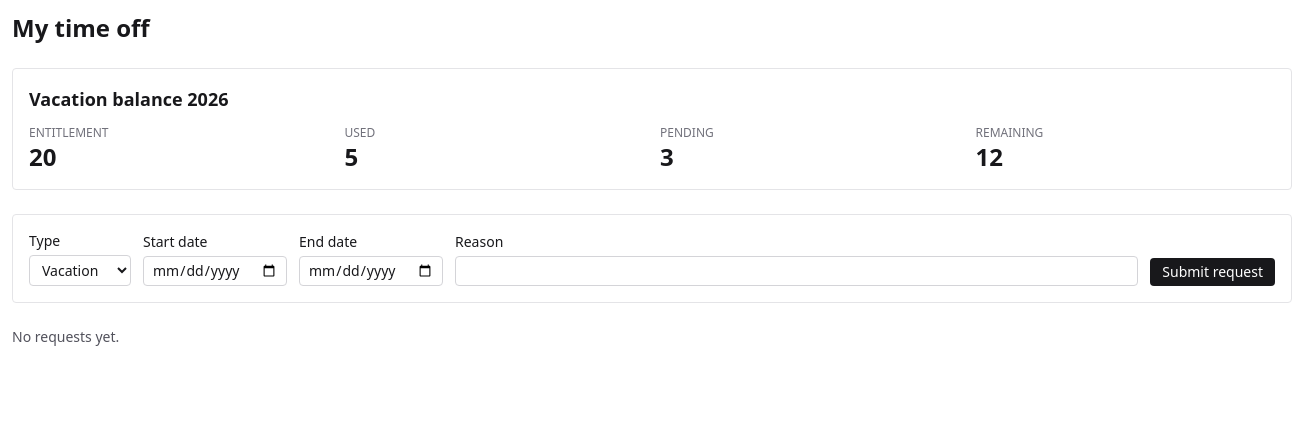
it: new request form (T4) › sends entered values, resets the form and reloads list and balance
The image size is (1292, 428).
Expected: the text "No requests yet." is shown, [12,327,119,346]
Select "Sick leave" in the dropdown labelled "Type" at (80, 270), box [29,255,131,286]
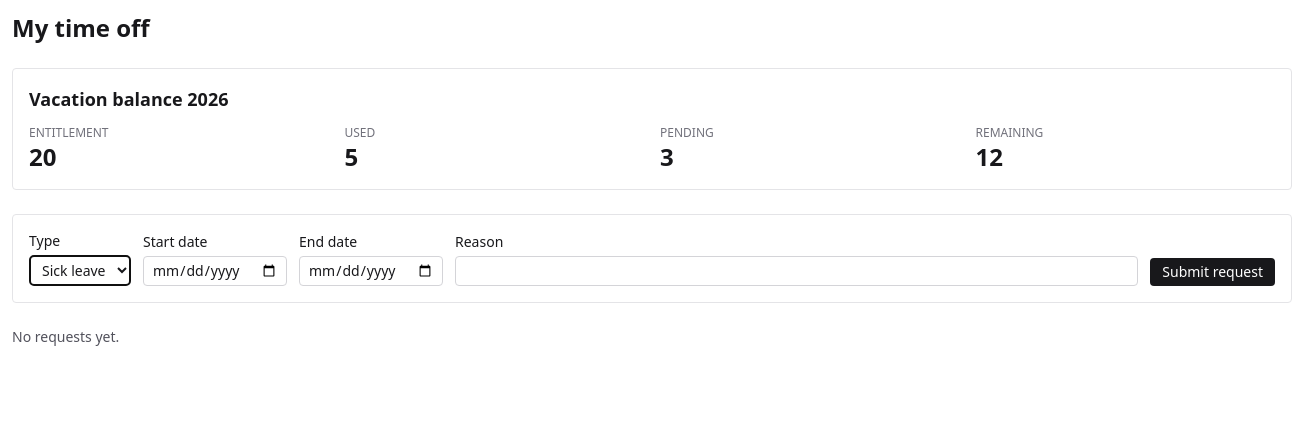
Type "2026-11-09" into the date field labelled "Start date" at (215, 271), box [143,256,287,286]
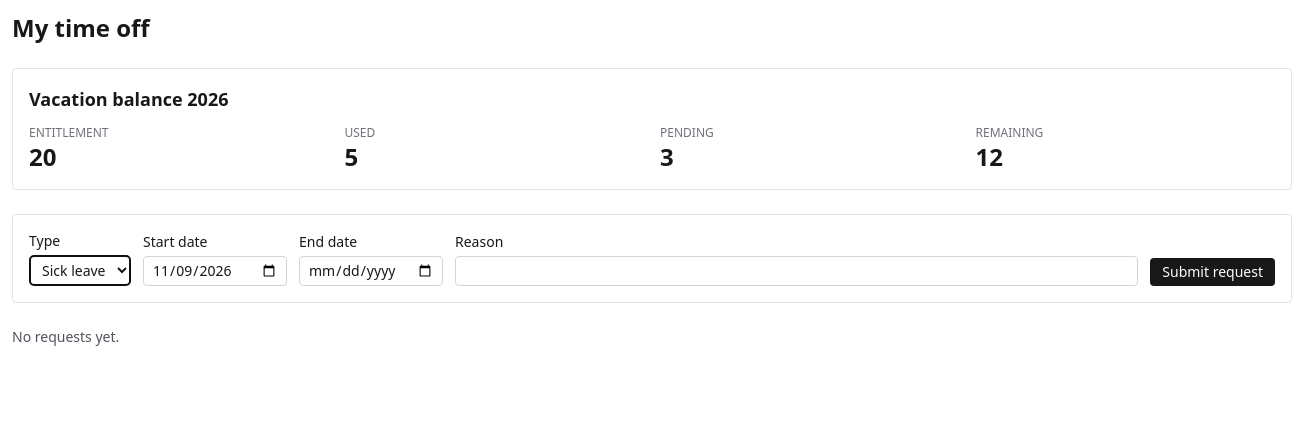
Type "2026-11-10" into the date field labelled "End date" at (371, 271), box [299,256,443,286]
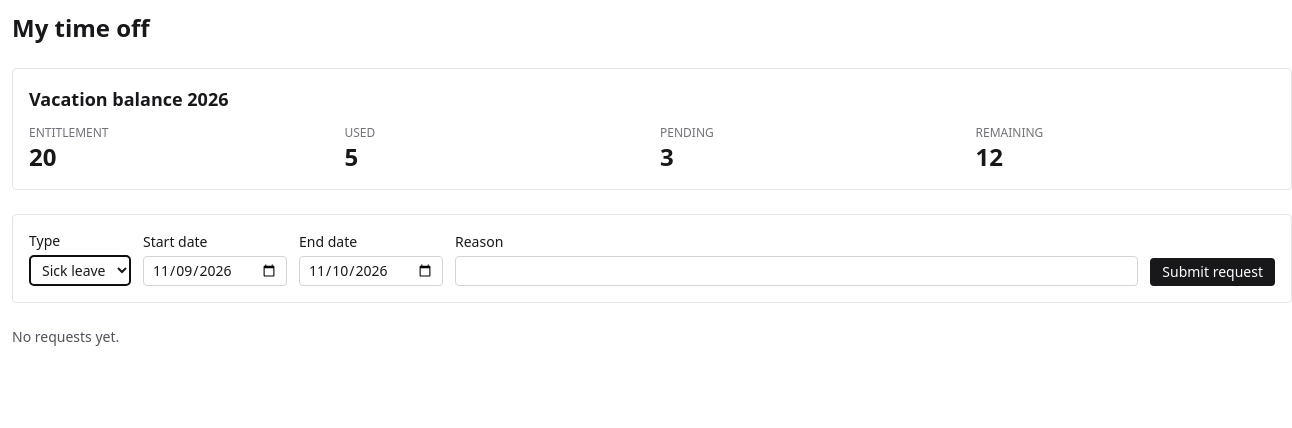
Type "Flu" into the field labelled "Reason" at (797, 271), box [455,256,1138,286]
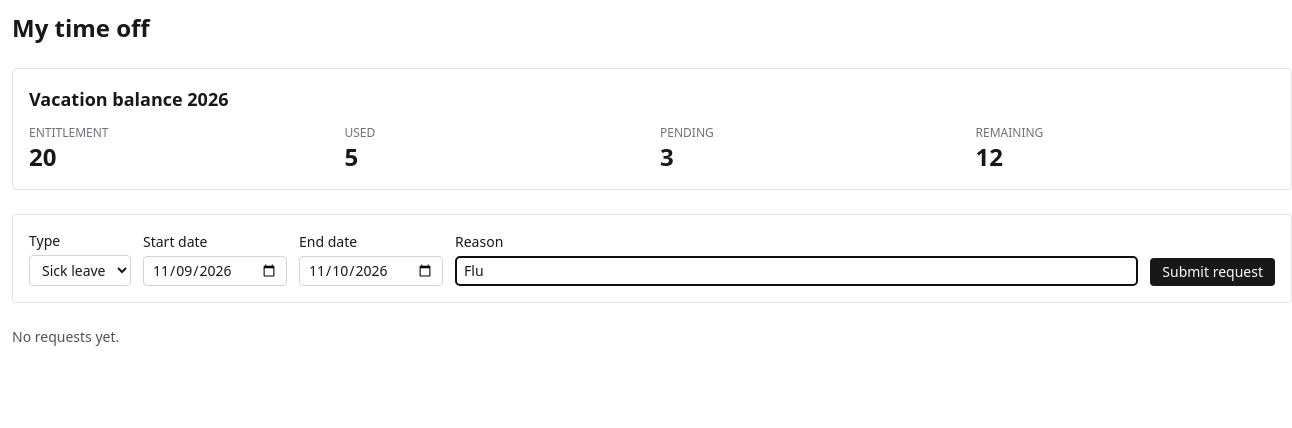
Click the button "Submit request" at (1213, 272), box [1150,258,1275,286]
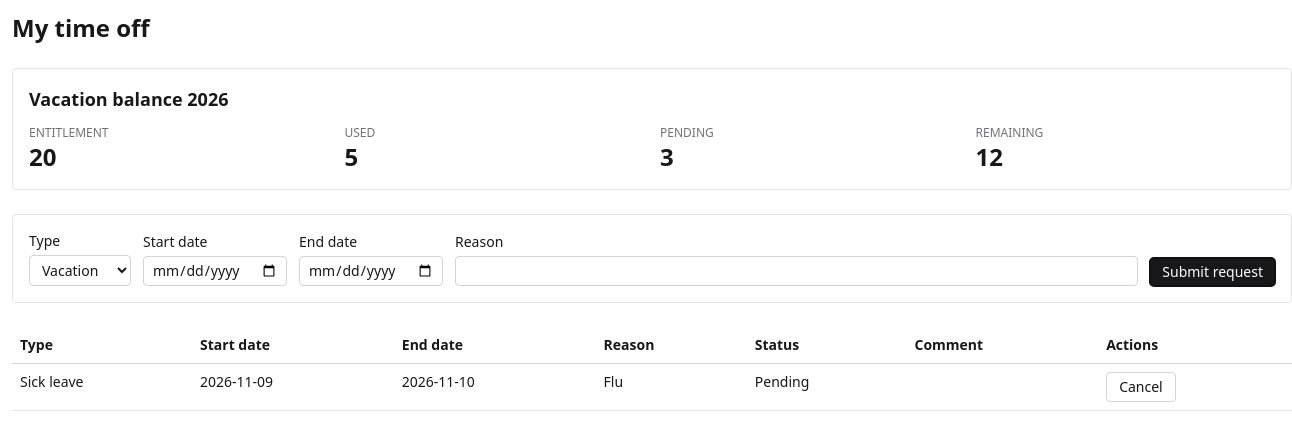
Now the date field labelled "Start date" is empty, box [143,256,287,286]
Now the date field labelled "End date" is empty, box [299,256,443,286]
Now the field labelled "Reason" is empty, box [455,256,1138,286]
